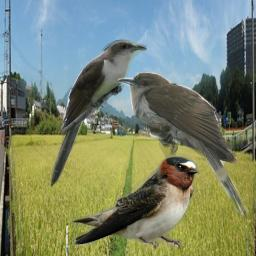Cuckoo: (118, 72, 249, 221), (46, 38, 147, 190)
Swallow: (70, 152, 204, 251)
